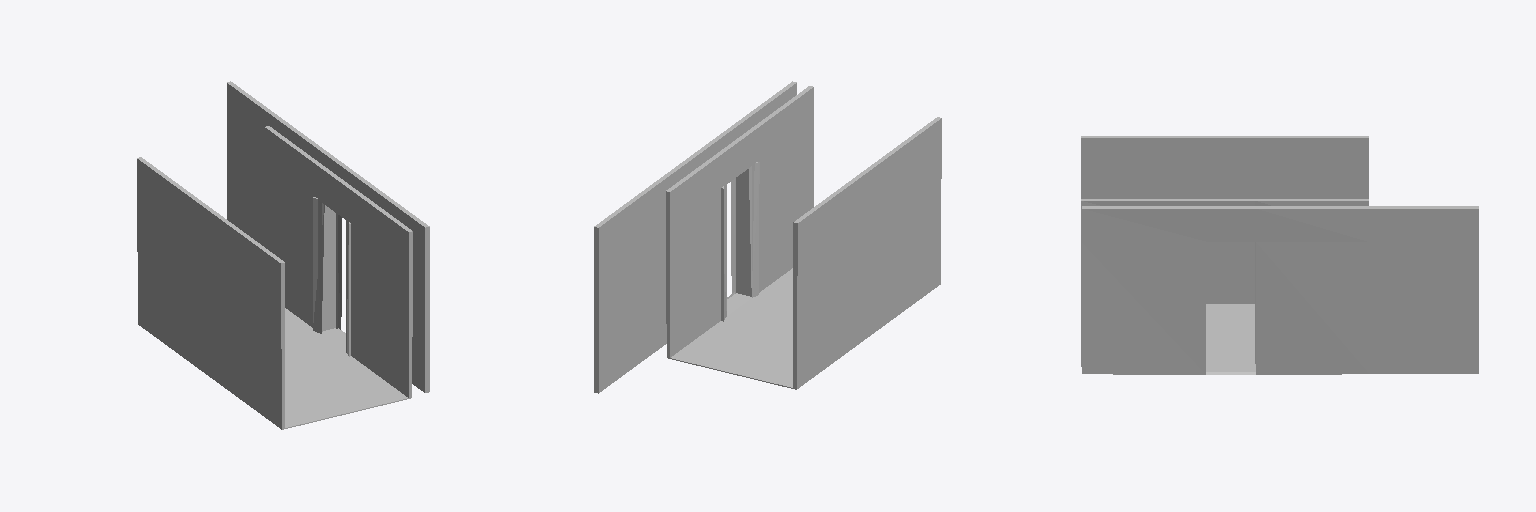
Rendered from hall_walls.obj.
3 renders of one model, left to right at view 1: azimuth 30°, elevation 25°; view 2: azimuth 150°, elevation 25°; view 3: azimuth 270°, elevation 25°, orthographic.
Visible parts, largest first — view 1: Hallway_Plane.001; view 2: Hallway_Plane.001; view 3: Hallway_Plane.001.
Boxes of the visible parts, box(x1,y1,x2,y2) form: Hallway_Plane.001: box(137, 81, 429, 429); Hallway_Plane.001: box(594, 81, 941, 393); Hallway_Plane.001: box(1081, 136, 1478, 374).
Bounding box in the file's own units: 9.51 × 10.21 × 21.96.